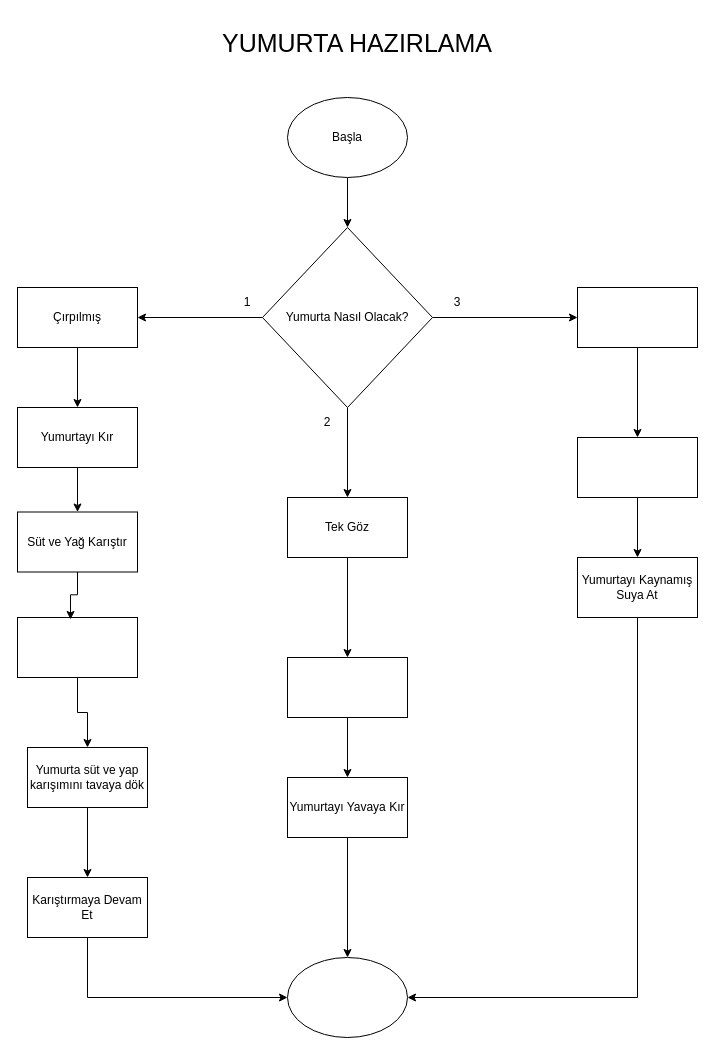
This 715x1055 diagram has some shape labels left out. The shapes that lost their labels are listed below. From the top down, each one's centre as x and y in pixels, then its label:
At point 637,317: "Rafadan".
At point 637,467: "Suyu Kaynat".
At point 77,647: "Tavayı ısıt ve yağ ekle".
At point 347,687: "Tavayı Isıt ve Yağ Ekle".
At point 347,997: "Son".
